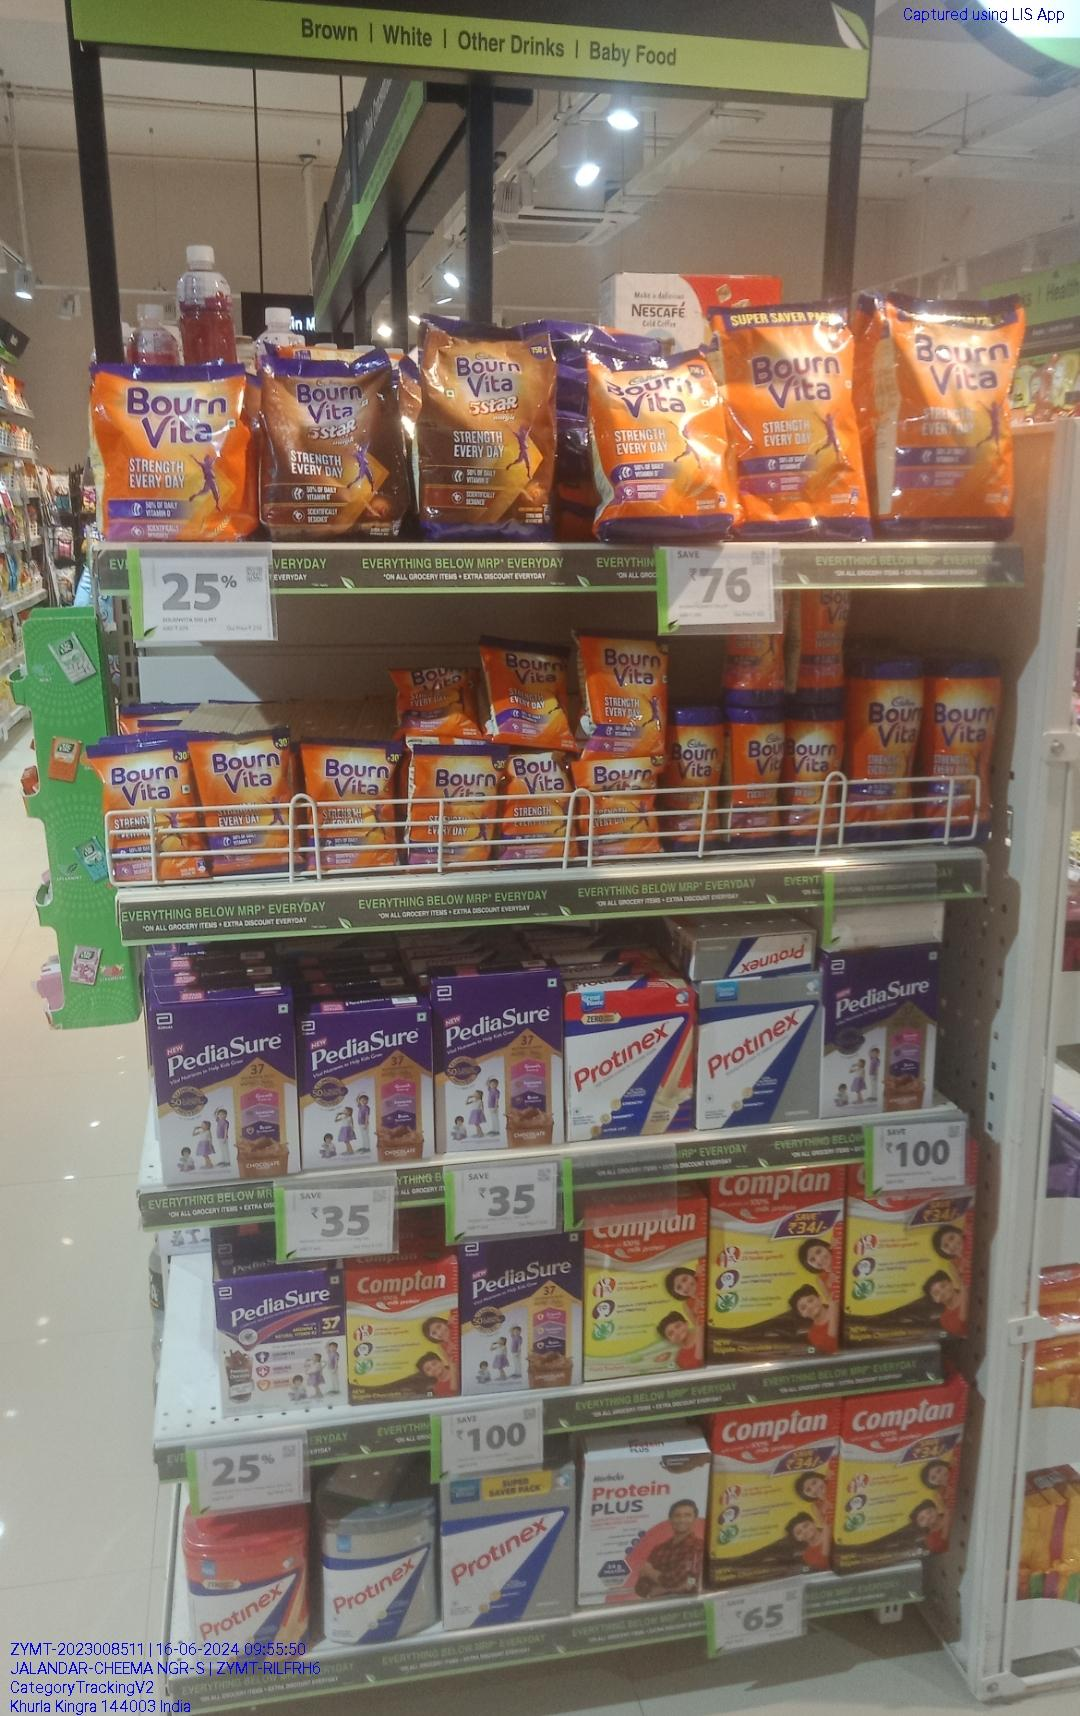PEDIASURE_CHOCOLATE_500_G_PACK: (162, 994, 296, 1186), (300, 1000, 434, 1176), (811, 946, 942, 1117), (440, 974, 562, 1155), (469, 1241, 576, 1386)
PROTINEX_ORIGINAL_400_G_JAR: (321, 1521, 439, 1639)
PROTINEX_VANILLA_400_G_JAR: (198, 1524, 316, 1672)
